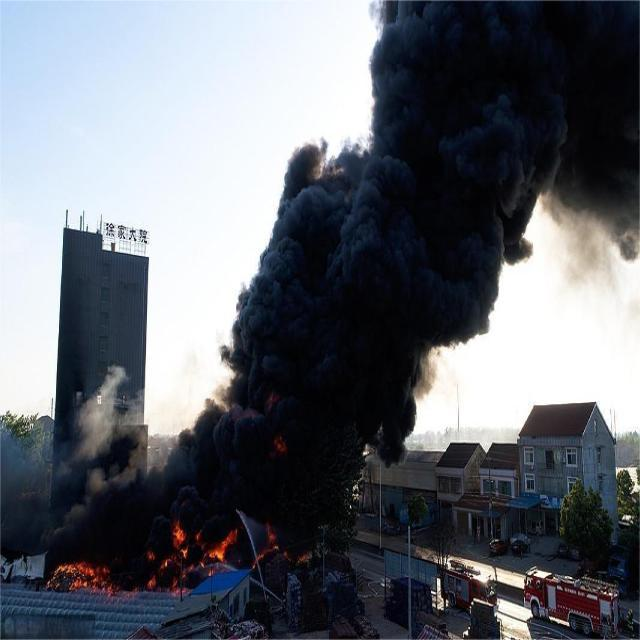Fire: (54, 557, 118, 593), (202, 529, 236, 564), (170, 518, 188, 554)
Smoke: (226, 0, 640, 386), (51, 388, 349, 558)
